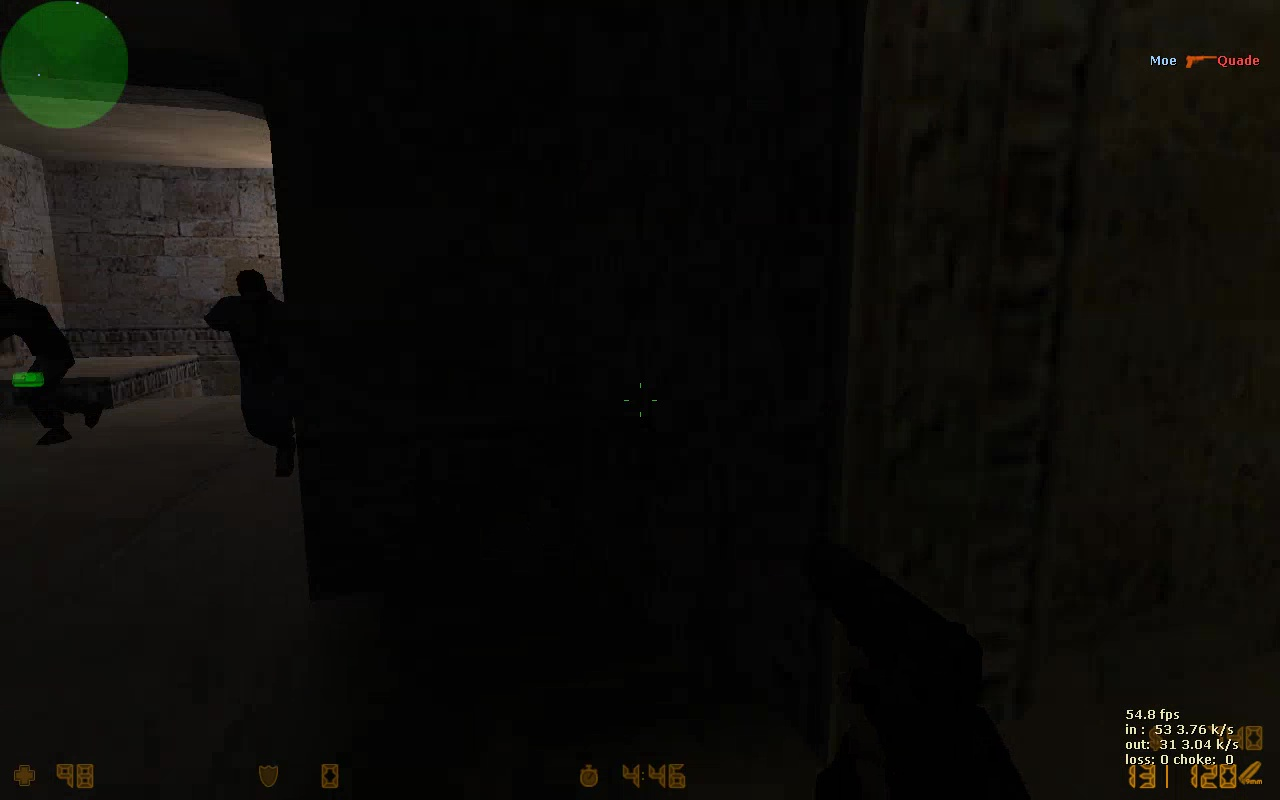ct: (205, 271, 295, 479), (1, 282, 99, 449)
